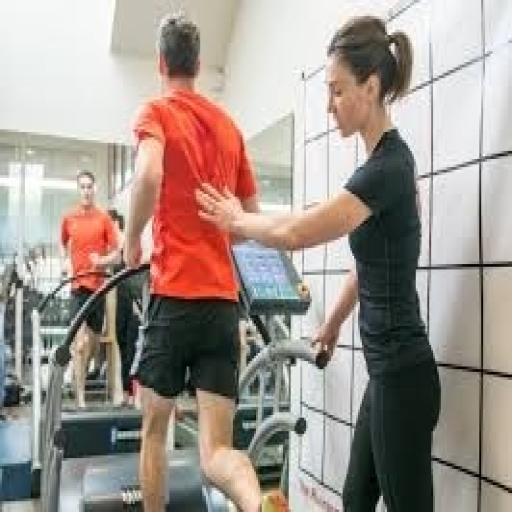running: (192, 14, 444, 510), (120, 14, 268, 510)
